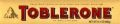grozi_68: (0, 0, 119, 24)
